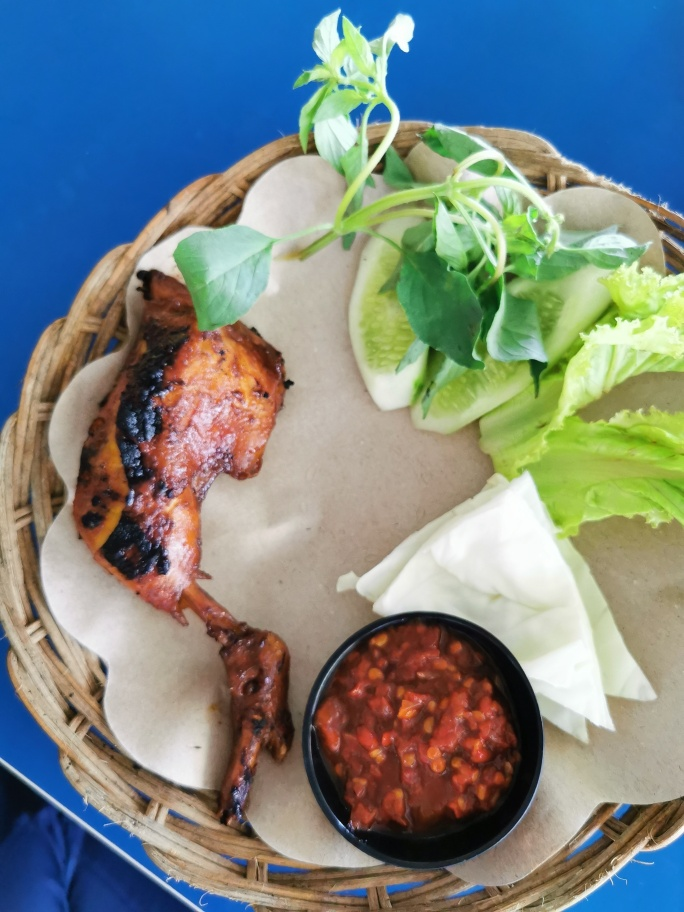ayam bakar: (65, 257, 315, 826)
